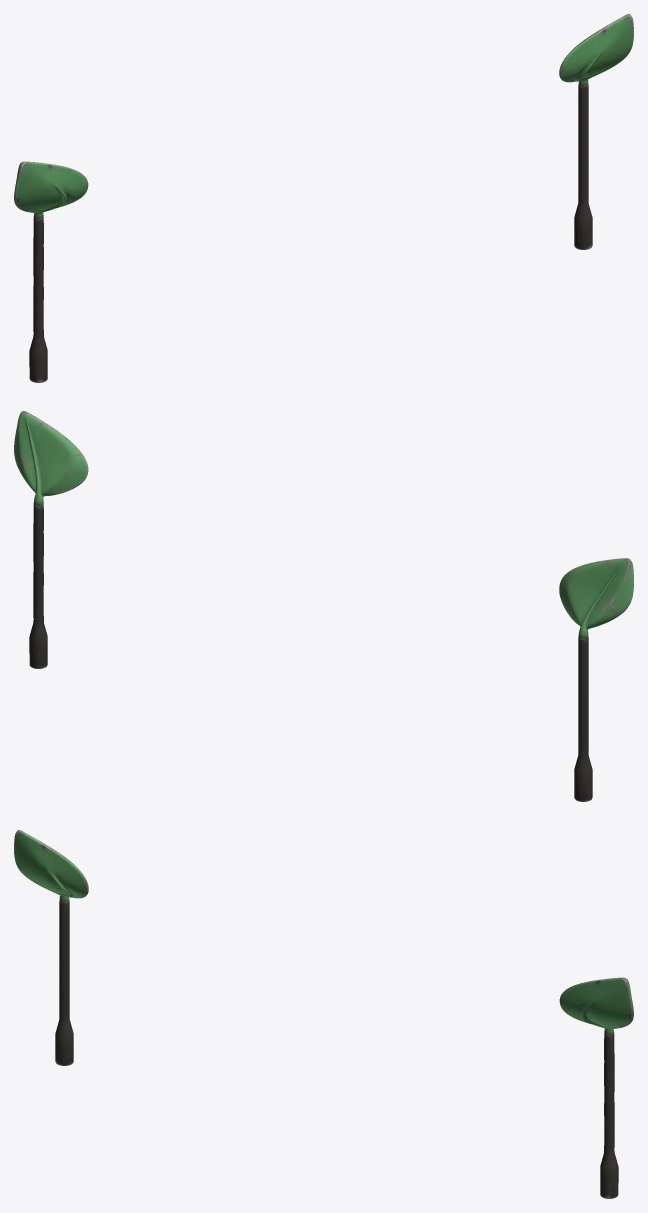
File: piece_antenna_leaf.glb
The picture shows the model from 3 angles, top to bottom: view 1: azimuth 30°, elevation 25°; view 2: azimuth 150°, elevation 25°; view 3: azimuth 330°, elevation 25°; orthographic projection.
Parts seen in each view (by area): view 1: trait_antenna_leaf_right, trait_antenna_leaf_left; view 2: trait_antenna_leaf_left, trait_antenna_leaf_right; view 3: trait_antenna_leaf_left, trait_antenna_leaf_right.
Boxes of the visible parts, bbox=[...] form: trait_antenna_leaf_right: bbox=[14, 161, 88, 382]; trait_antenna_leaf_left: bbox=[559, 14, 633, 249]; trait_antenna_leaf_left: bbox=[14, 411, 88, 668]; trait_antenna_leaf_right: bbox=[559, 558, 633, 801]; trait_antenna_leaf_left: bbox=[559, 977, 633, 1198]; trait_antenna_leaf_right: bbox=[14, 830, 88, 1065].
Bounding box in the file's own units: 0.6813 × 0.2485 × 0.042.
2 materials, 2 textured.
